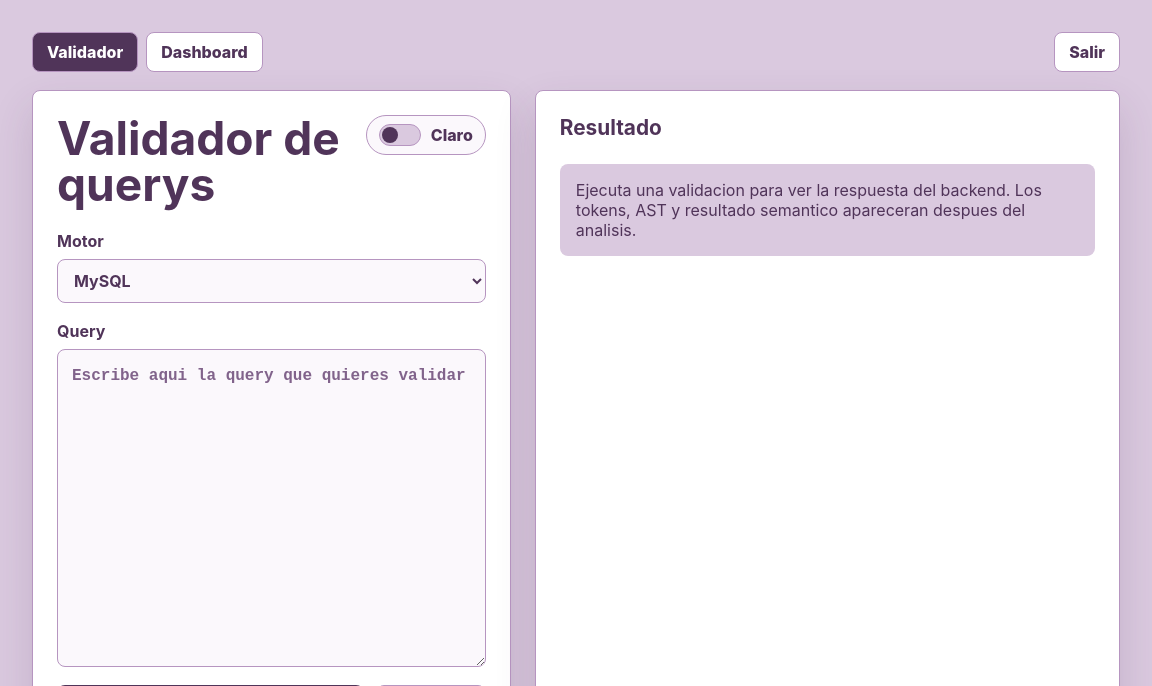
App › dashboard muestra tabla de ultimas consultas y corta query larga
The image size is (1152, 686).
Step 1. Click the button "Dashboard" → [204, 52], box [146, 32, 263, 72]
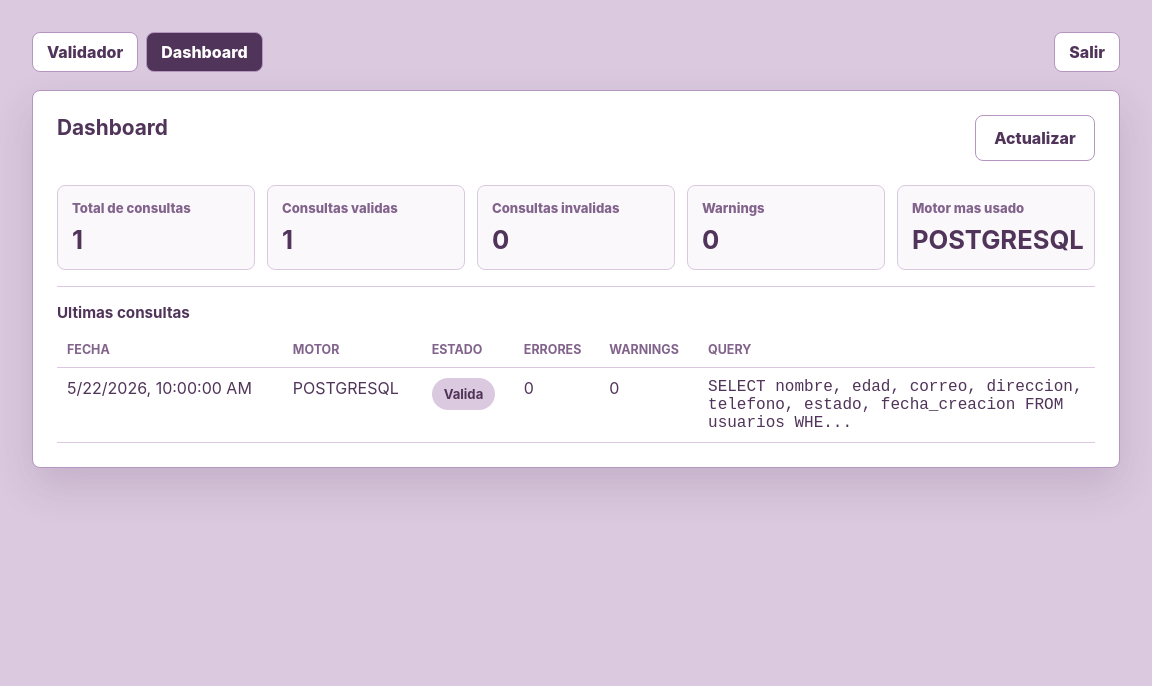
Check: the table with class "history-table" is shown, box [57, 332, 1095, 443]
Check: the text "POSTGRESQL" is shown, box [912, 224, 1084, 255]
